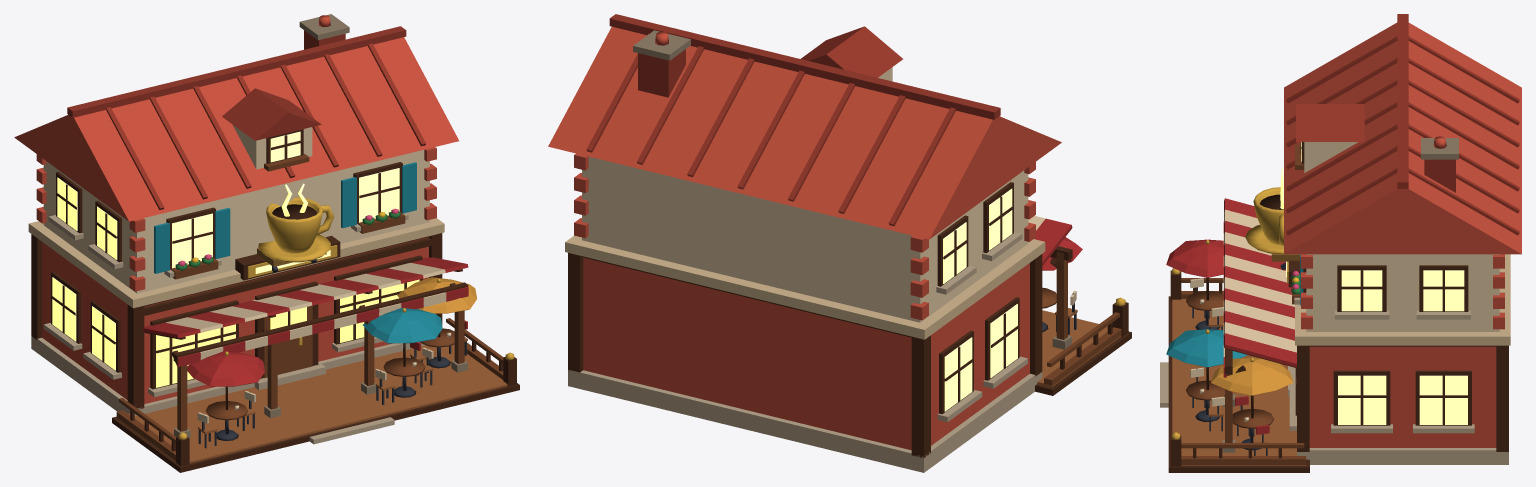
Rendered from venue_starlight_cafe.glb.
The picture shows the model from 3 angles, left to right: view 1: azimuth 30°, elevation 25°; view 2: azimuth 150°, elevation 25°; view 3: azimuth 270°, elevation 25°; orthographic projection. The views are drawn at different scales.
Parts seen in each view (by area): view 1: venue_starlight_cafe; view 2: venue_starlight_cafe; view 3: venue_starlight_cafe.
Part boxes in pixels (left/top/right/bottom): venue_starlight_cafe: left=14, top=14, right=519, bottom=472; venue_starlight_cafe: left=548, top=14, right=1131, bottom=472; venue_starlight_cafe: left=1160, top=14, right=1521, bottom=472.
Bounding box in the file's own units: 10.9 × 8.96 × 9.73.
